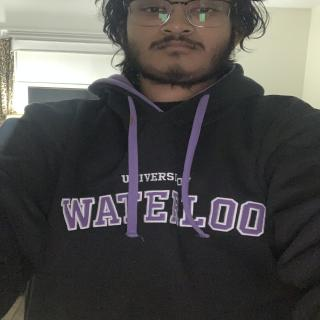Waterloo Hoodie: (3, 78, 320, 320)
